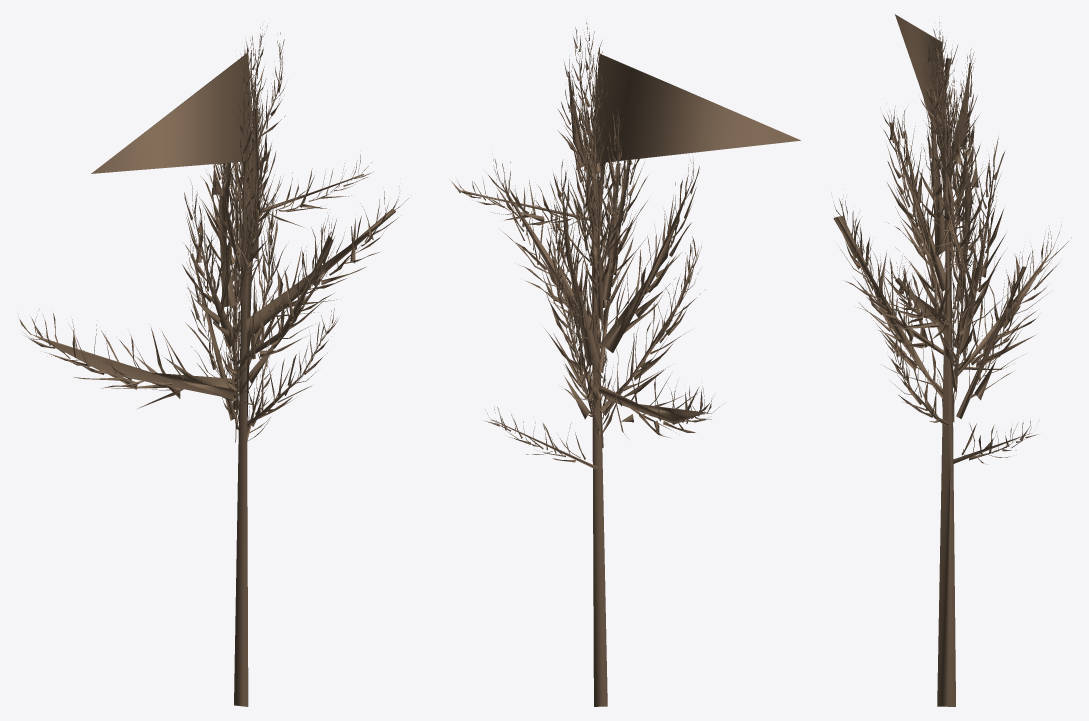
Rendered from Pine_02_LOD1.fbx.
3 renders of one model, left to right at view 1: azimuth 30°, elevation 25°; view 2: azimuth 150°, elevation 25°; view 3: azimuth 270°, elevation 25°, orthographic. The views are drawn at different scales.
Visible parts, largest first — view 1: Pine; view 2: Pine; view 3: Pine.
Part boxes in pixels (x1,y1,x2,y2): Pine: (19,25,408,706); Pine: (451,20,800,706); Pine: (831,14,1071,706).
Size of the model in its own units: 723 by 1459 by 461.
